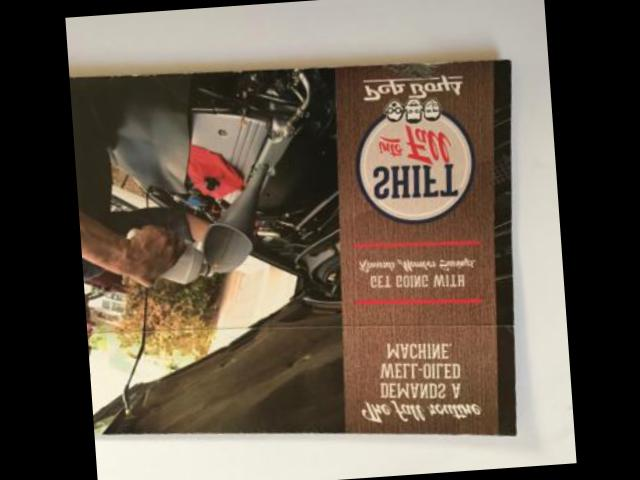cardboard paper: (336, 63, 516, 436)
